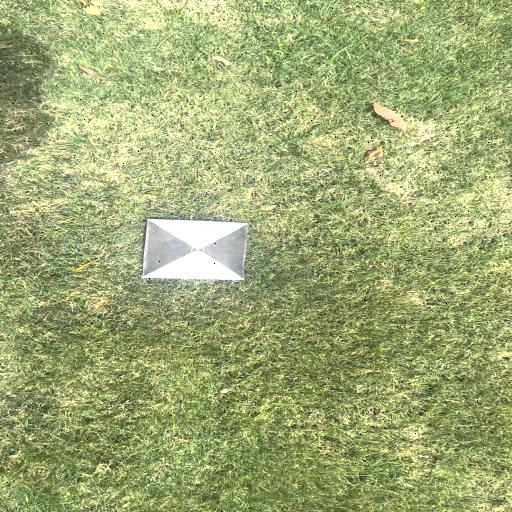target: (146, 218, 244, 280)
